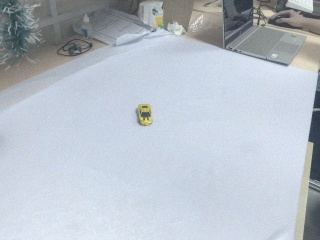toy_car: (137, 104, 153, 126)
